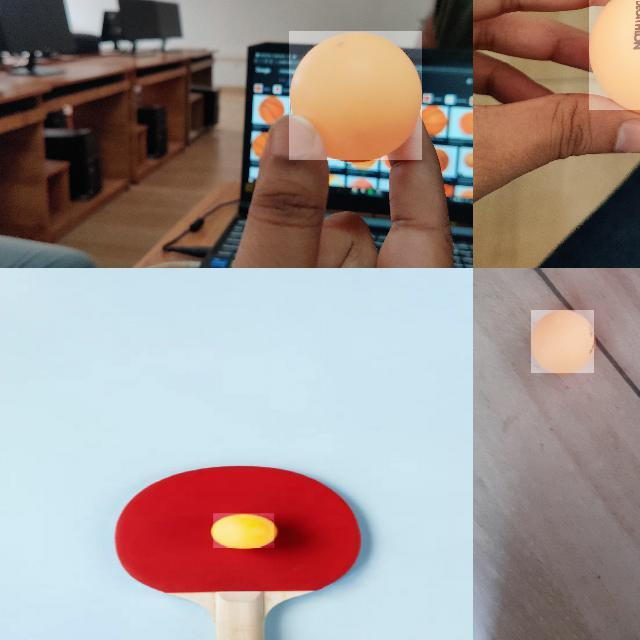ping-pong-ball: (289, 30, 423, 162), (588, 0, 639, 112), (531, 310, 595, 374), (213, 513, 276, 548)
